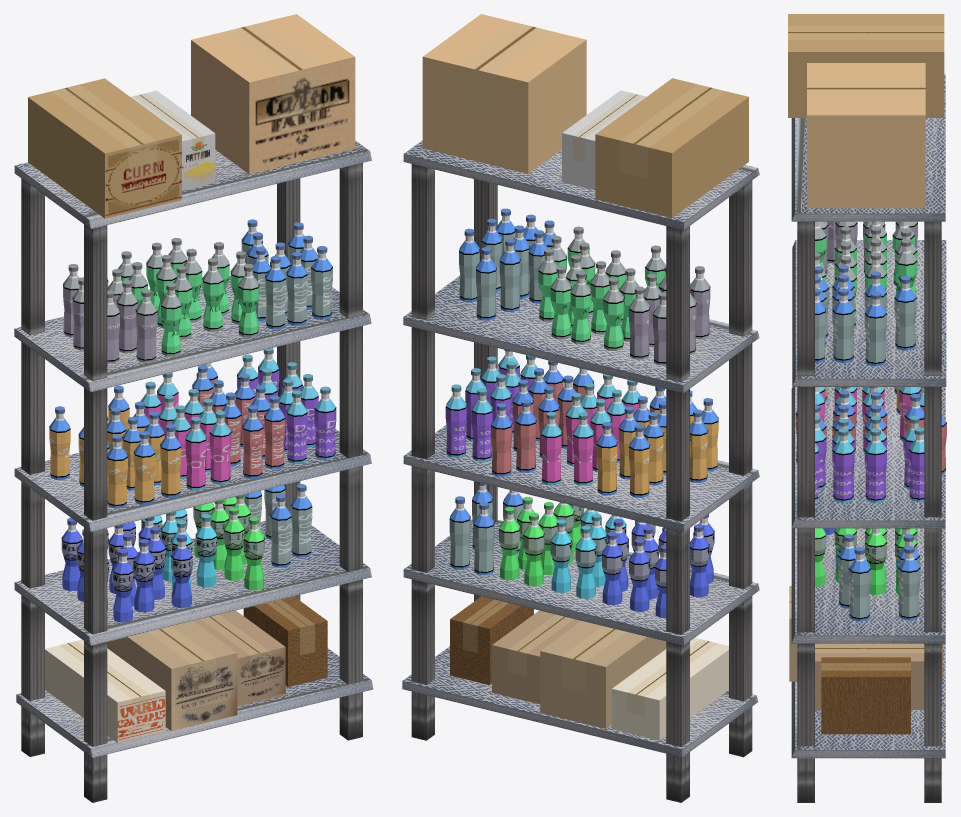
Rendered from plastic bottle shelf 1.FBX.
3 renders of one model, left to right at view 1: azimuth 30°, elevation 25°; view 2: azimuth 150°, elevation 25°; view 3: azimuth 270°, elevation 25°, orthographic.
Visible parts, largest first — view 1: 紙箱006, 紙箱004, 腳架002, 腳架003, 腳架, 板架001, 板架003, 紙箱001, 板架002, 紙箱, 板架, 板架004 (+50 smaller); view 2: 紙箱006, 紙箱004, 腳架, 腳架001, 腳架002, 板架003, 板架001, 板架002, 紙箱001, 板架004, 板架, 紙箱 (+49 smaller); view 3: 紙箱006, 紙箱004, 腳架001, 腳架003, 板架003, 板架002, 板架001, 紙箱003, 板架004, 板架, 紙箱002, 礦泉水071 (+37 smaller).
Part boxes in pixels (left/top/right/bottom): 紙箱006: left=191, top=14, right=355, bottom=174; 紙箱004: left=28, top=78, right=181, bottom=218; 腳架002: left=84, top=224, right=107, bottom=802; 腳架003: left=339, top=163, right=362, bottom=740; 腳架: left=21, top=178, right=44, bottom=756; 板架001: left=14, top=521, right=371, bottom=645; 板架003: left=14, top=276, right=371, bottom=392; 紙箱001: left=107, top=621, right=237, bottom=730; 板架002: left=14, top=429, right=371, bottom=531; 紙箱: left=45, top=639, right=165, bottom=742; 板架: left=16, top=648, right=373, bottom=757; 板架004: left=14, top=140, right=371, bottom=228; 紙箱006: left=422, top=14, right=586, bottom=173; 紙箱004: left=595, top=78, right=748, bottom=217; 腳架: left=666, top=226, right=689, bottom=802; 腳架001: left=411, top=164, right=434, bottom=740; 腳架002: left=729, top=180, right=752, bottom=757; 板架003: left=403, top=275, right=759, bottom=393; 板架001: left=403, top=519, right=759, bottom=645; 板架002: left=403, top=422, right=759, bottom=532; 紙箱001: left=540, top=621, right=666, bottom=728; 板架004: left=403, top=140, right=759, bottom=230; 板架: left=402, top=646, right=758, bottom=757; 紙箱: left=612, top=638, right=728, bottom=740; 紙箱006: left=807, top=63, right=925, bottom=208; 紙箱004: left=788, top=14, right=944, bottom=117; 腳架001: left=924, top=221, right=941, bottom=802; 腳架003: left=797, top=221, right=814, bottom=802; 板架003: left=792, top=240, right=946, bottom=386; 板架002: left=791, top=387, right=945, bottom=528; 板架001: left=791, top=528, right=945, bottom=643; 紙箱003: left=821, top=657, right=910, bottom=734; 板架004: left=791, top=74, right=945, bottom=221; 板架: left=791, top=643, right=945, bottom=758; 紙箱002: left=815, top=643, right=924, bottom=709; 礦泉水071: left=832, top=428, right=854, bottom=503.
Size of the model in its own units: 568 by 1301 by 273.
19 materials, 19 textured.
